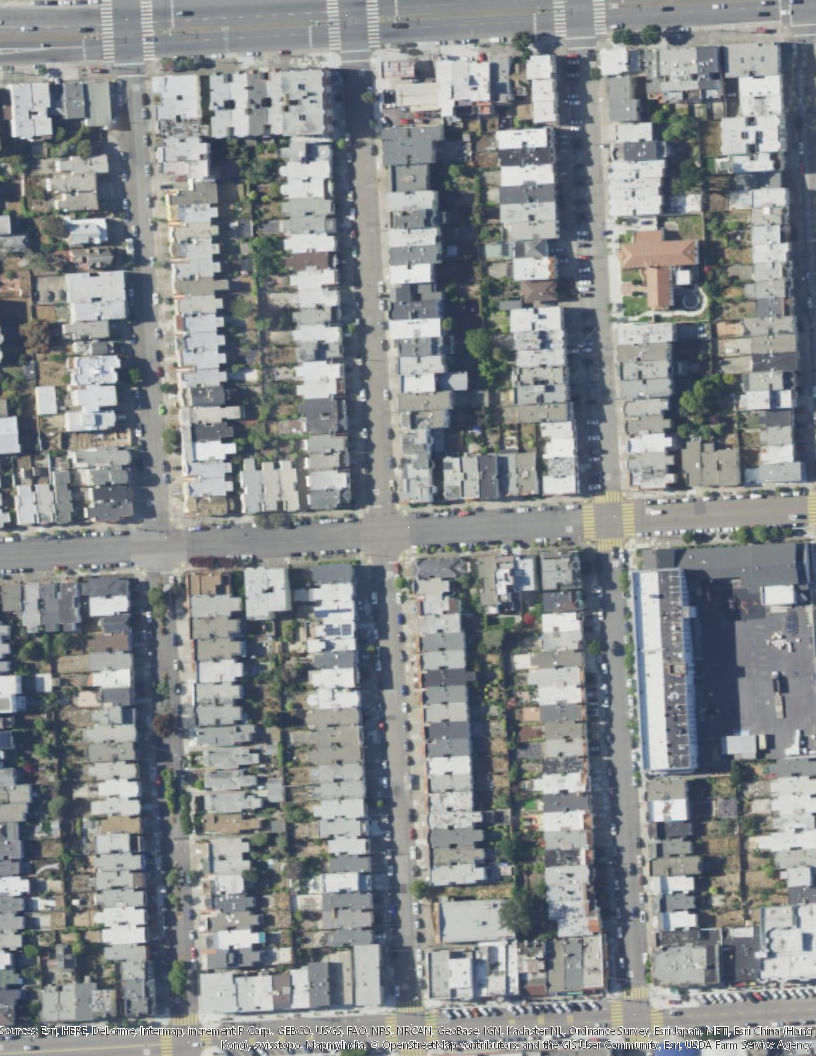zebracross: (95, 1, 119, 64), (138, 1, 159, 65), (325, 3, 344, 55), (366, 1, 384, 50), (553, 1, 569, 40), (593, 1, 610, 35), (621, 501, 635, 538), (581, 503, 595, 539), (168, 1012, 200, 1027), (425, 1010, 439, 1043), (623, 984, 651, 1000), (594, 489, 623, 503), (610, 1000, 624, 1028), (599, 537, 625, 551), (386, 1016, 399, 1044), (160, 1033, 174, 1055), (807, 490, 816, 523), (397, 1000, 423, 1011), (651, 1008, 665, 1027)
